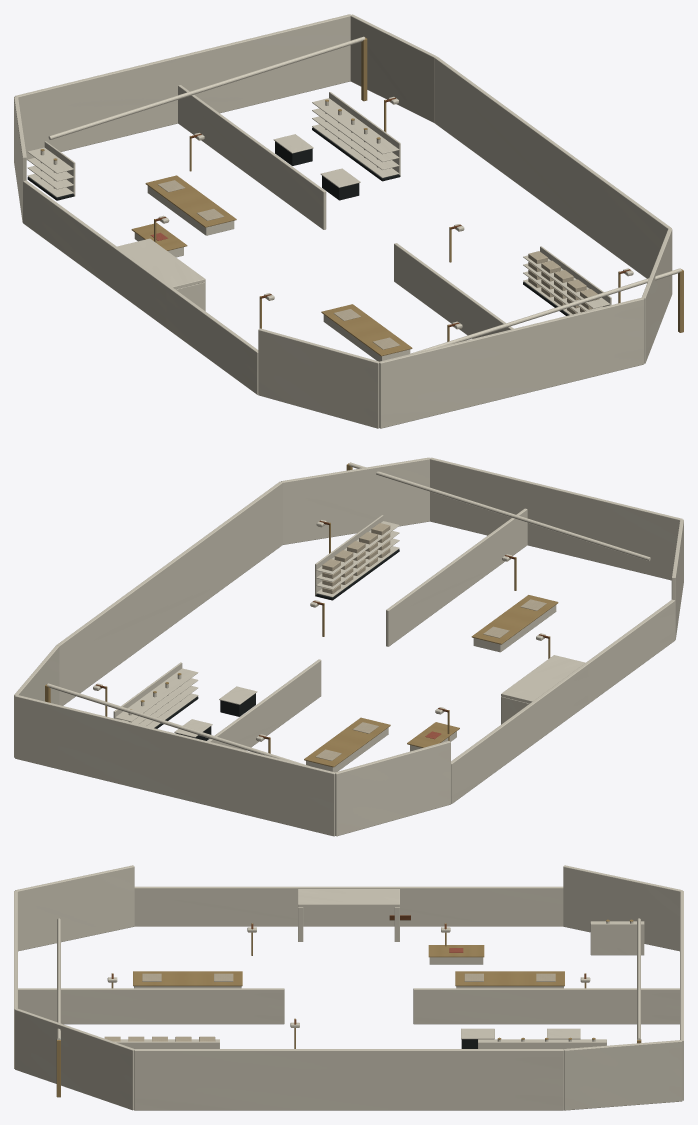
File: SOL_D08_directory_10_source001.glb
3 views of the same model, one above another, from view 1: azimuth 30°, elevation 25°; view 2: azimuth 150°, elevation 25°; view 3: azimuth 270°, elevation 25° (orthographic). The views are drawn at different scales.
Parts seen in each view (by area): view 1: D08_directory_10__staff_enclosure_1, D08_directory_10__staff_enclosure_5, D08_directory_10__staff_enclosure_3, D08_directory_10__staff_enclosure_6, D08_directory_10__screened_entry_north, D08_directory_10__rear_stock_screen0, D08_directory_10__staff_enclosure_2, D08_directory_10__screened_entry_south, D08_directory_10__rear_stock_screen1, D08_directory_10__staff_enclosure_4, D08_directory_10__service_crown, D08_directory_10__folding_workcell_top (+12 smaller); view 2: D08_directory_10__staff_enclosure_1, D08_directory_10__staff_enclosure_3, D08_directory_10__staff_enclosure_5, D08_directory_10__staff_enclosure_4, D08_directory_10__staff_enclosure_0, D08_directory_10__screened_entry_north, D08_directory_10__rear_stock_screen1, D08_directory_10__screened_entry_south, D08_directory_10__rear_stock_screen0, D08_directory_10__service_crown, D08_directory_10__sorting_workcell_top, D08_directory_10__folding_workcell_top (+8 smaller); view 3: D08_directory_10__staff_enclosure_3, D08_directory_10__rear_stock_screen0, D08_directory_10__rear_stock_screen1, D08_directory_10__screened_entry_south, D08_directory_10__staff_enclosure_2, D08_directory_10__staff_enclosure_4, D08_directory_10__staff_enclosure_6, D08_directory_10__screened_entry_north, D08_directory_10__staff_enclosure_0, D08_directory_10__service_crown, D08_directory_10__local_supply_back, D08_directory_10__sorting_workcell_top (+11 smaller).
Boxes of the visible parts, left/top/right/bottom form: D08_directory_10__staff_enclosure_1: left=15, top=14, right=350, bottom=160; D08_directory_10__staff_enclosure_5: left=379, top=297, right=644, bottom=428; D08_directory_10__staff_enclosure_3: left=434, top=56, right=671, bottom=278; D08_directory_10__staff_enclosure_6: left=258, top=328, right=379, bottom=428; D08_directory_10__screened_entry_north: left=23, top=180, right=166, bottom=327; D08_directory_10__rear_stock_screen0: left=178, top=85, right=326, bottom=229; D08_directory_10__staff_enclosure_2: left=350, top=14, right=436, bottom=122; D08_directory_10__screened_entry_south: left=115, top=247, right=258, bottom=394; D08_directory_10__rear_stock_screen1: left=394, top=243, right=513, bottom=338; D08_directory_10__staff_enclosure_4: left=642, top=228, right=672, bottom=363; D08_directory_10__service_crown: left=117, top=238, right=205, bottom=289; D08_directory_10__folding_workcell_top: left=321, top=304, right=412, bottom=356; D08_directory_10__staff_enclosure_1: left=15, top=695, right=335, bottom=836; D08_directory_10__staff_enclosure_3: left=56, top=481, right=282, bottom=705; D08_directory_10__staff_enclosure_5: left=430, top=457, right=682, bottom=580; D08_directory_10__staff_enclosure_4: left=281, top=457, right=429, bottom=544; D08_directory_10__staff_enclosure_0: left=335, top=741, right=450, bottom=836; D08_directory_10__screened_entry_north: left=451, top=663, right=588, bottom=803; D08_directory_10__rear_stock_screen1: left=386, top=508, right=527, bottom=646; D08_directory_10__screened_entry_south: left=536, top=599, right=675, bottom=729; D08_directory_10__rear_stock_screen0: left=207, top=659, right=321, bottom=750; D08_directory_10__service_crown: left=501, top=655, right=585, bottom=703; D08_directory_10__sorting_workcell_top: left=304, top=717, right=390, bottom=767; D08_directory_10__folding_workcell_top: left=471, top=595, right=558, bottom=644; D08_directory_10__staff_enclosure_3: left=134, top=1049, right=563, bottom=1110; D08_directory_10__rear_stock_screen0: left=413, top=988, right=679, bottom=1024; D08_directory_10__rear_stock_screen1: left=18, top=988, right=284, bottom=1024; D08_directory_10__screened_entry_south: left=134, top=886, right=396, bottom=926; D08_directory_10__staff_enclosure_2: left=563, top=1040, right=682, bottom=1110; D08_directory_10__staff_enclosure_4: left=15, top=1008, right=134, bottom=1110; D08_directory_10__staff_enclosure_6: left=15, top=865, right=134, bottom=951; D08_directory_10__screened_entry_north: left=314, top=886, right=563, bottom=926; D08_directory_10__staff_enclosure_0: left=563, top=865, right=682, bottom=951; D08_directory_10__service_crown: left=298, top=889, right=399, bottom=906; D08_directory_10__local_supply_back: left=590, top=923, right=644, bottom=955; D08_directory_10__sorting_workcell_top: left=455, top=971, right=564, bottom=986.
Bounding box in the file's own units: 40.86 × 6.2 × 62.36.
Materials: 6 (6 with a texture image).
